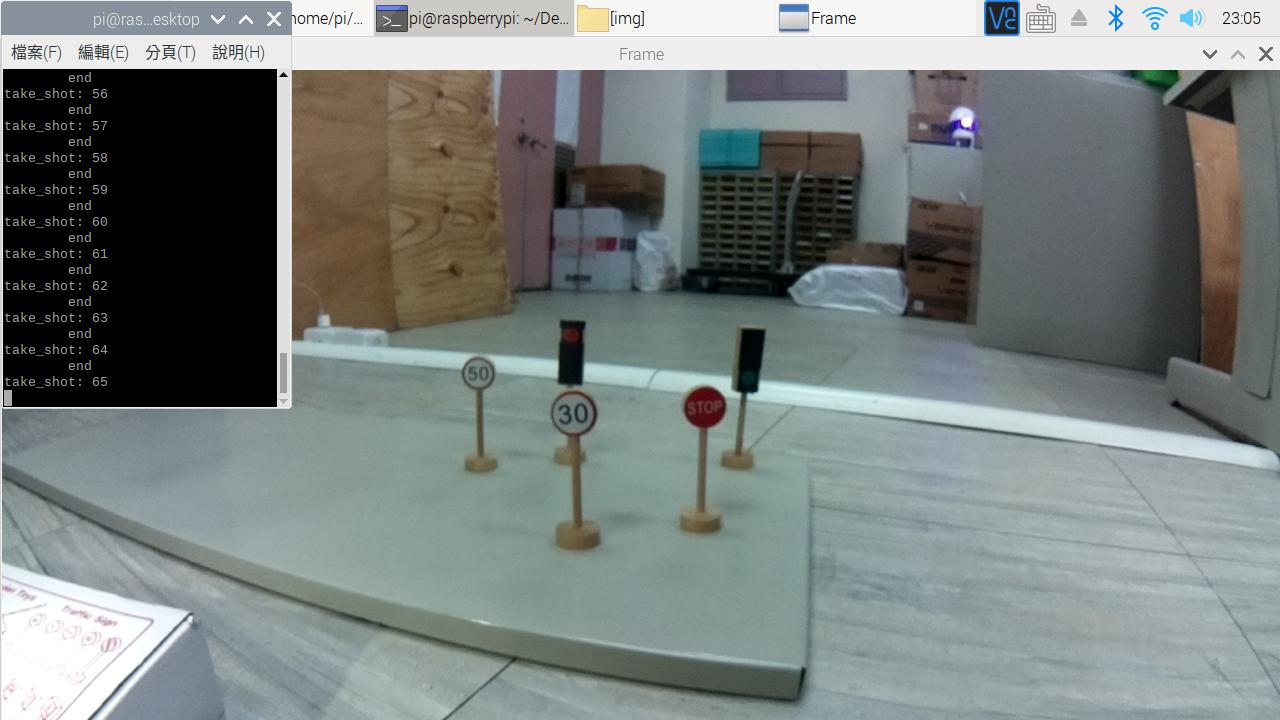Green: (728, 323, 772, 397)
Red: (552, 312, 595, 389)
Speed30: (549, 389, 603, 440)
Speed50: (460, 352, 496, 394)
Stop: (679, 383, 728, 429)
